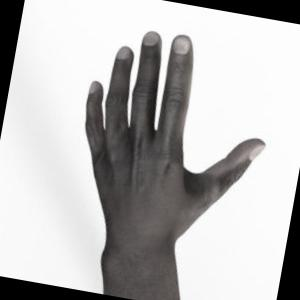paper: (85, 32, 264, 300)
